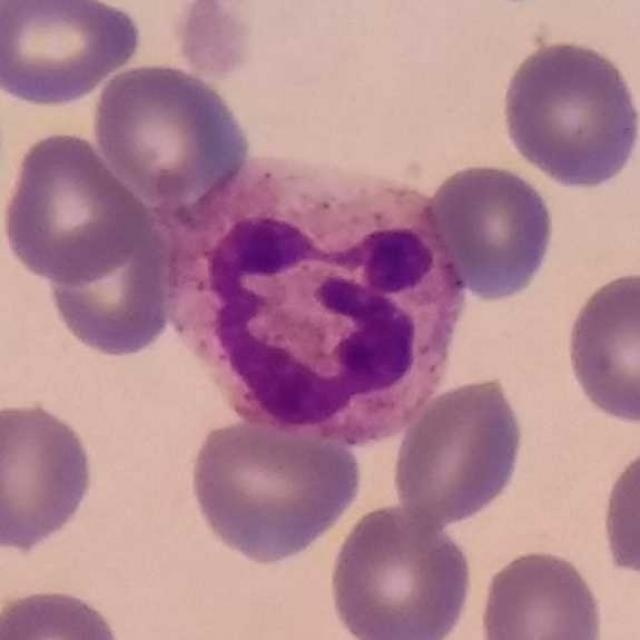Neutrophil: (164, 157, 469, 441)
Platelets: (168, 0, 260, 81)
RBC: (185, 408, 366, 566), (0, 127, 155, 286), (87, 59, 251, 205), (388, 373, 528, 532), (497, 35, 640, 190), (325, 500, 476, 640), (42, 218, 182, 361), (421, 159, 558, 303), (0, 0, 145, 109), (0, 398, 99, 554), (561, 267, 640, 429), (474, 545, 607, 640), (0, 583, 127, 640), (597, 434, 640, 586)
